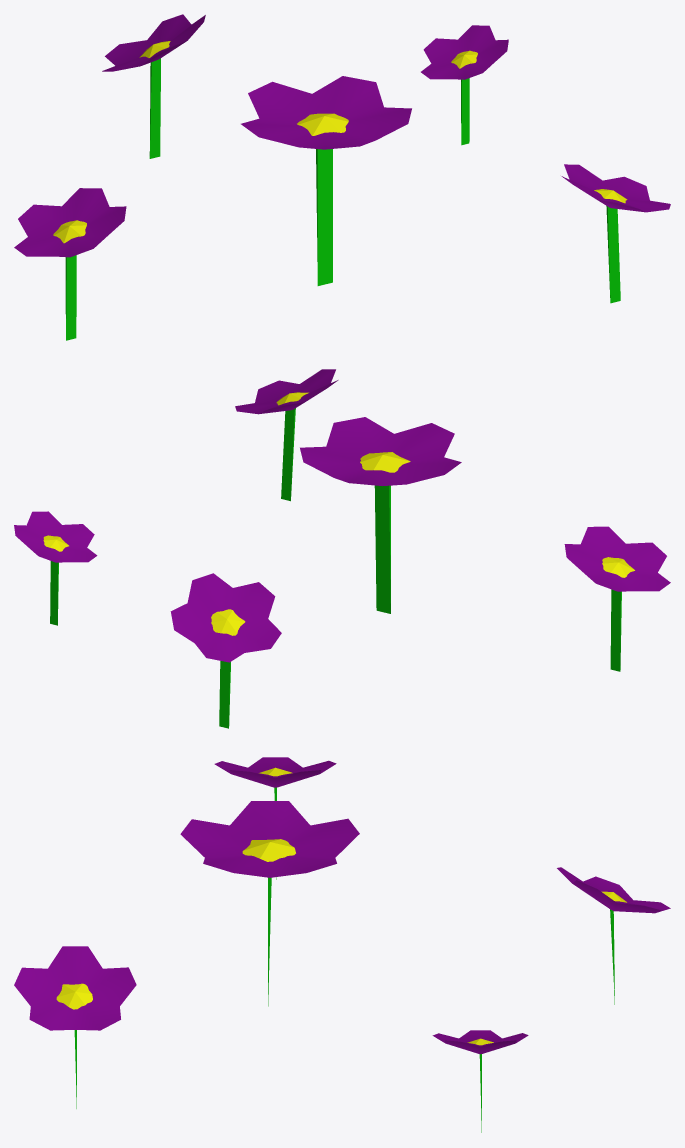
Rendered from flowers.fbx.
The picture shows the model from 3 angles, top to bottom: view 1: azimuth 30°, elevation 25°; view 2: azimuth 150°, elevation 25°; view 3: azimuth 270°, elevation 25°; orthographic projection. The views are drawn at different scales.
Parts seen in each view (by area): view 1: hp_flowers; view 2: hp_flowers; view 3: hp_flowers.
Part boxes in pixels (x1=…): hp_flowers: x1=14, y1=14, x2=670, y2=340; hp_flowers: x1=14, y1=369, x2=670, y2=728; hp_flowers: x1=14, y1=757, x2=670, y2=1132.
Bounding box in the file's own units: 75.76 × 21.46 × 72.73.
